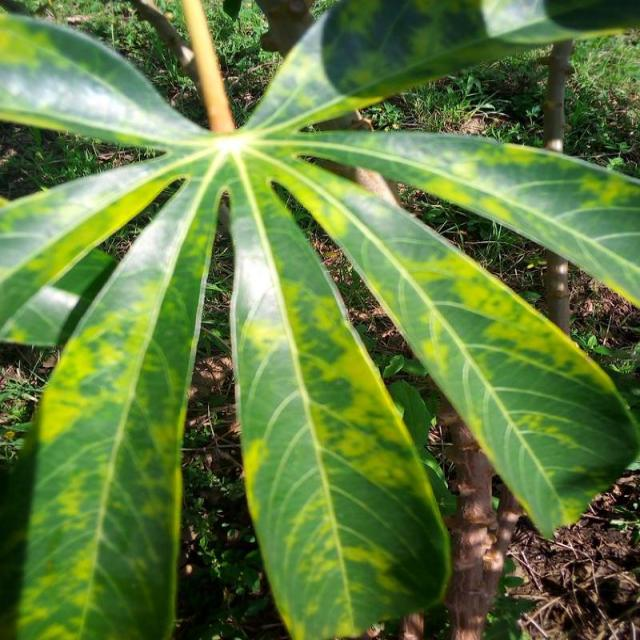cassava leaf: (0, 0, 638, 638), (225, 151, 452, 638)
